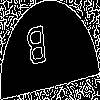B: (25, 24, 48, 76)
